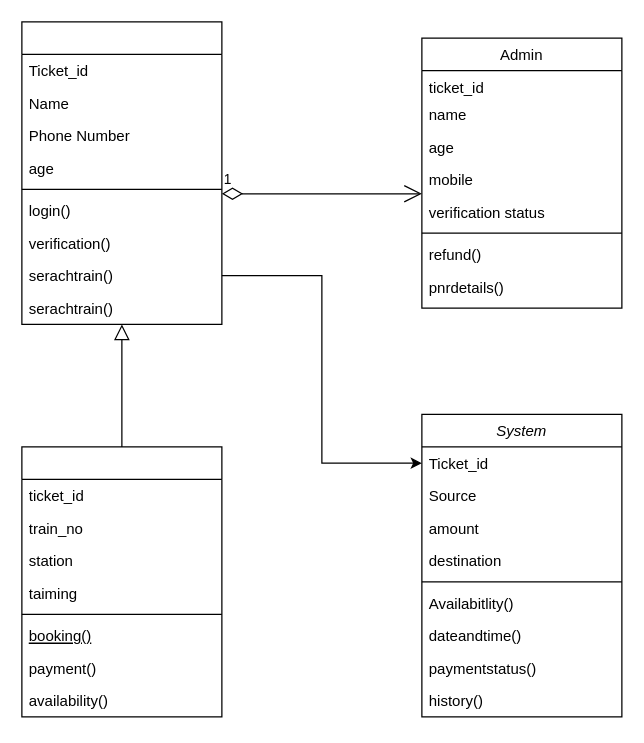
The diagram is 644 pixels wide and 743 high, and some of its shapes have lost their labels. Each missing label, with the box of its shape:
Details: (21, 446, 222, 717)
Passenger: (21, 21, 222, 324)
